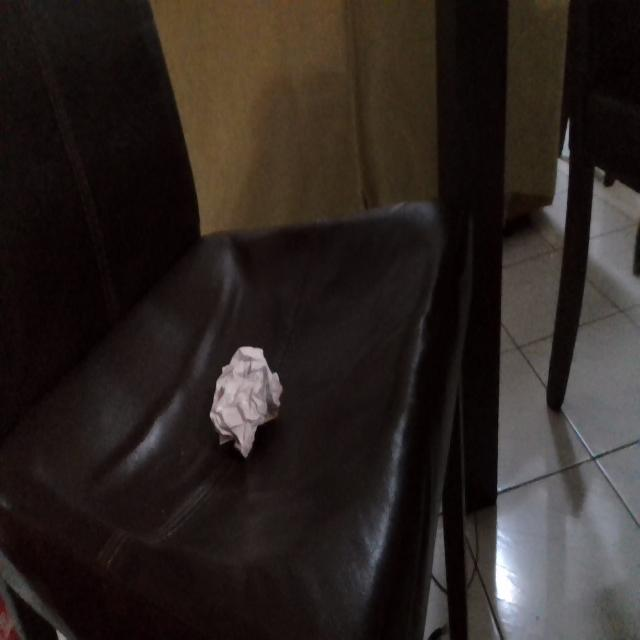crumpled_paper: (209, 341, 285, 455)
